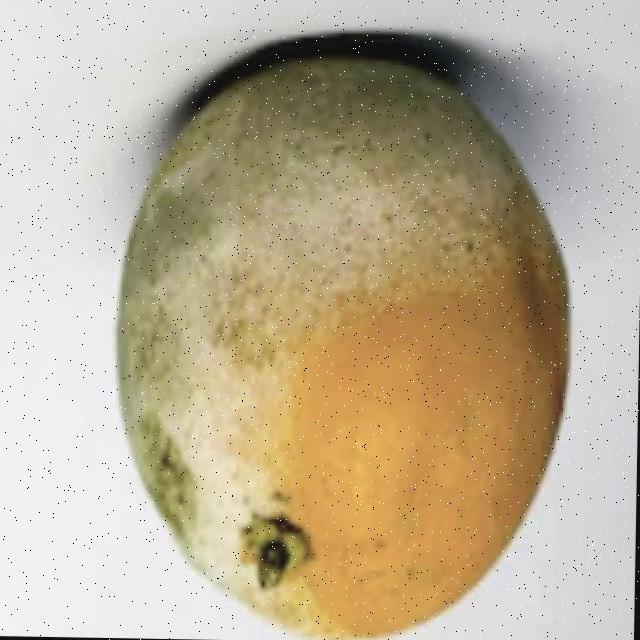rotten orange: (116, 53, 572, 639)
